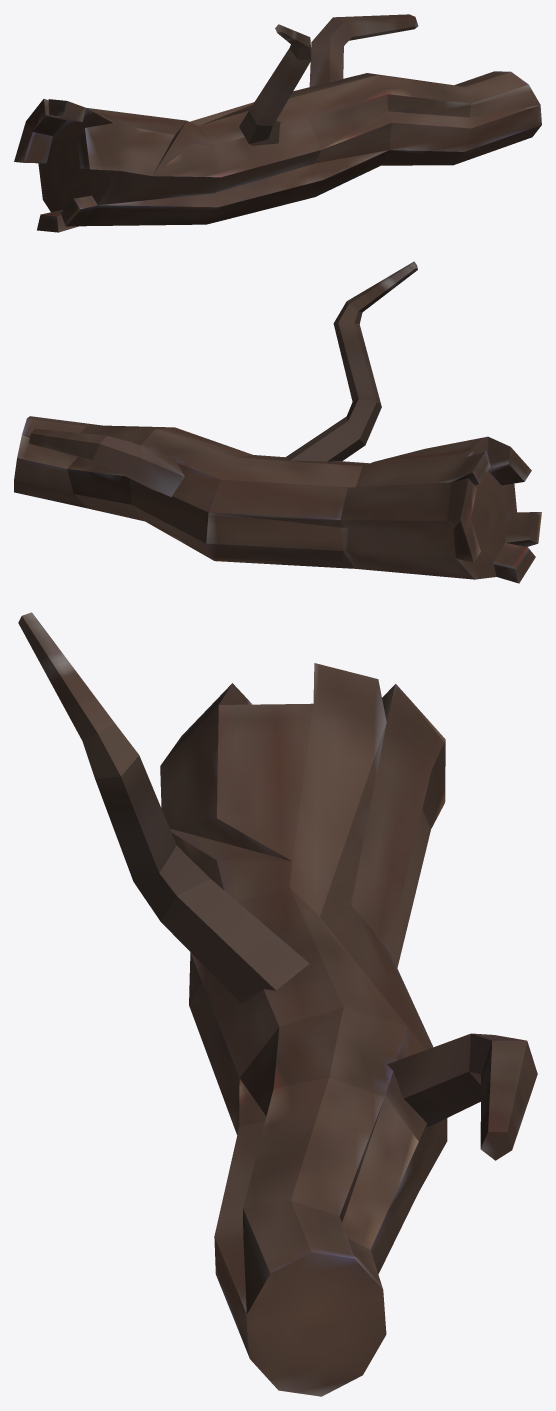
Rendered from Plank.fbx.
The picture shows the model from 3 angles, top to bottom: view 1: azimuth 30°, elevation 25°; view 2: azimuth 150°, elevation 25°; view 3: azimuth 270°, elevation 25°; orthographic projection. The views are drawn at different scales.
Parts seen in each view (by area): view 1: haunted_bark; view 2: haunted_bark; view 3: haunted_bark.
Boxes of the visible parts, x1,y1,x2,y2 form: haunted_bark: (14,14,541,232); haunted_bark: (14,261,541,583); haunted_bark: (18,612,537,1396).
Size of the model in its own units: 0.6121 by 0.3007 by 0.2813.
